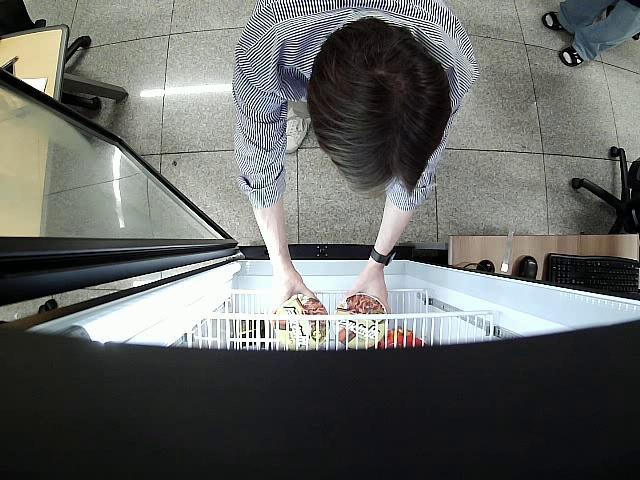00_hand: (341, 274, 390, 315), (269, 272, 317, 309)
03_chapagetti_L: (337, 298, 388, 350), (278, 296, 328, 349)
